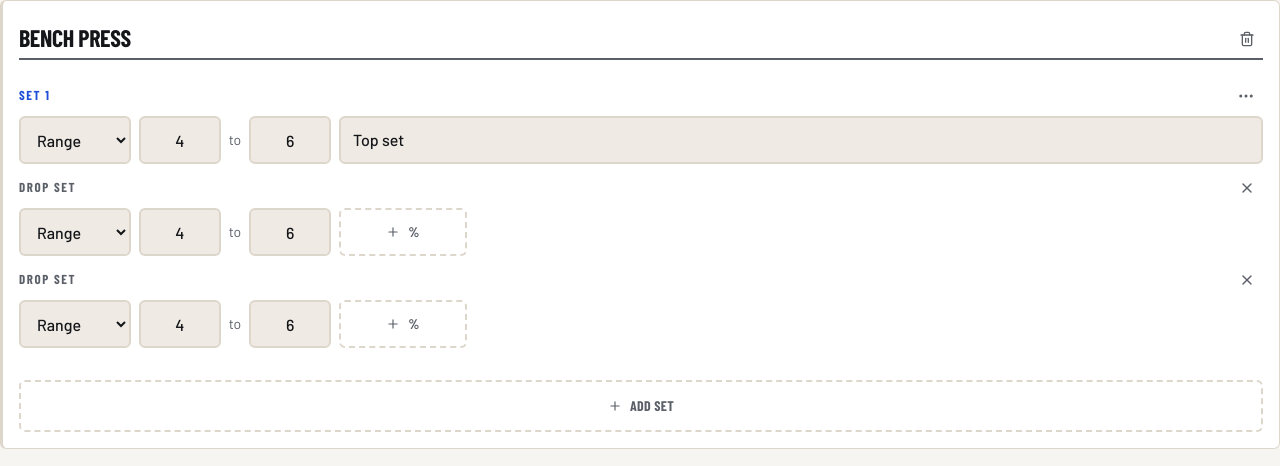
ExerciseFields › drop and rest-pause sets › adds to the run from the working set, however long it is
The image size is (1280, 466).
Click the button named "Exercise 1, set 1 actions". click: (1246, 96)
box: [1229,79,1263,113]
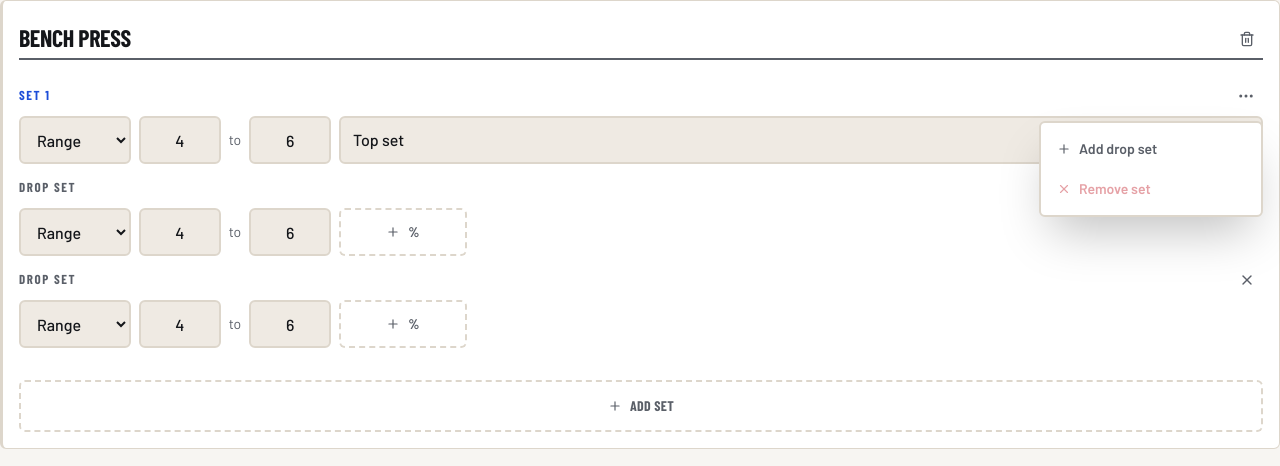
Click the button "Add drop set". click: (1151, 149)
box: [1049,131,1253,167]
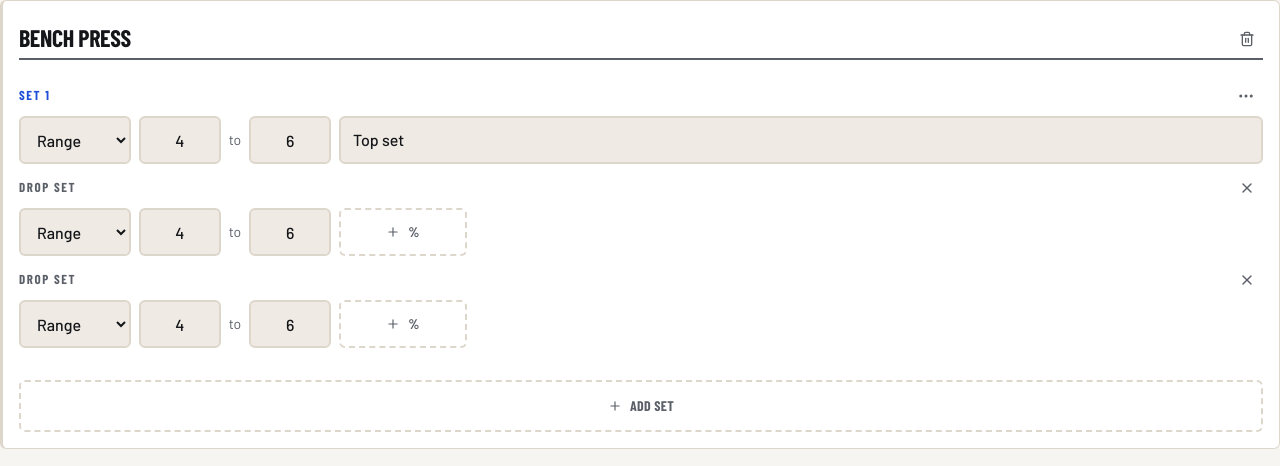
Expected: the button "Add drop set" is gone
